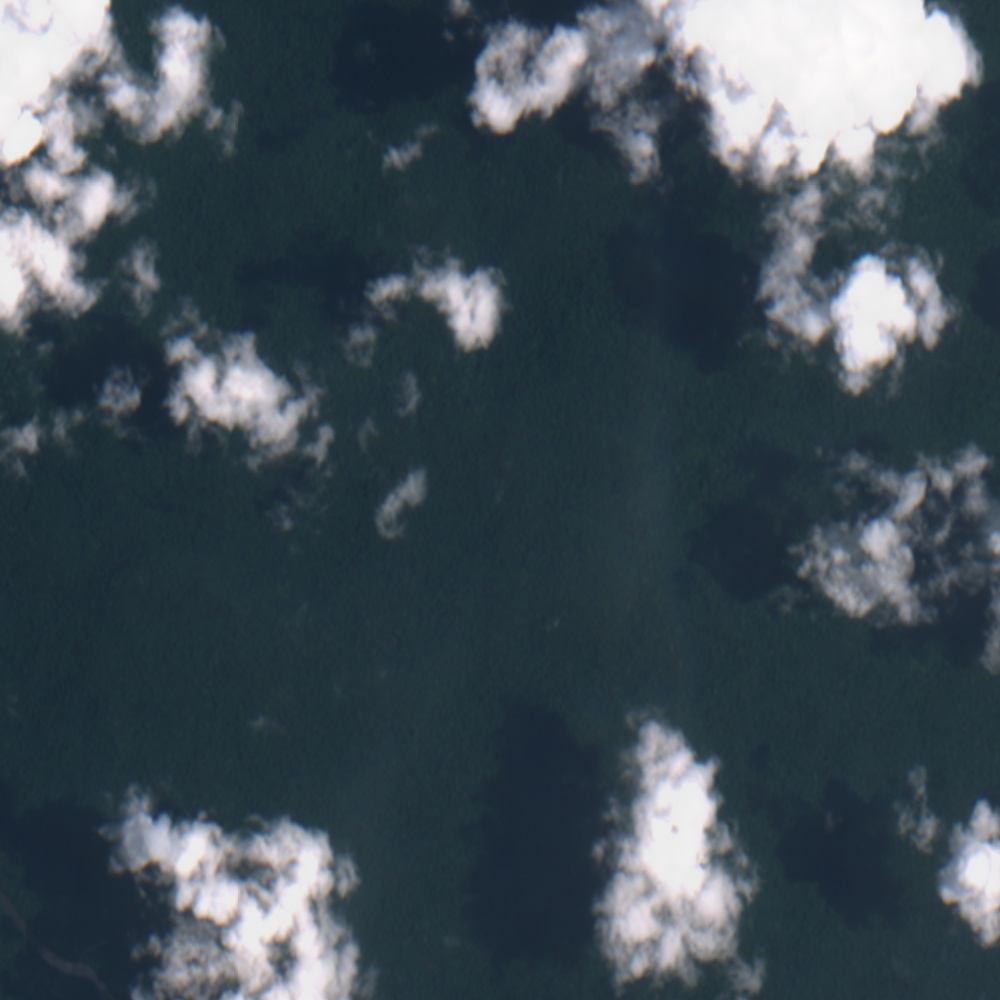illegal: (120, 948, 150, 974)
